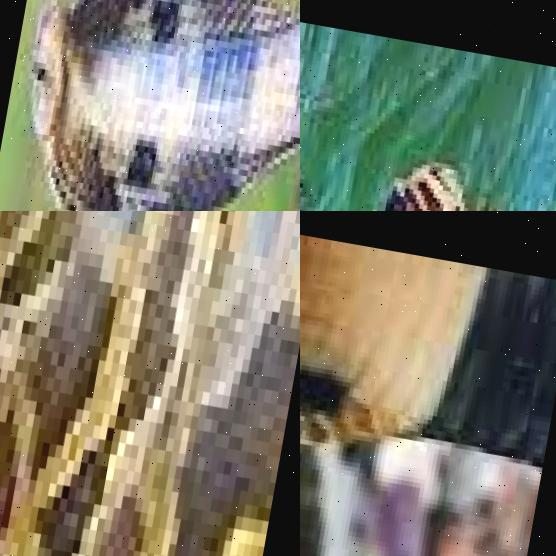snake: (0, 211, 300, 556), (300, 211, 556, 517), (0, 0, 300, 211), (300, 68, 549, 211)
